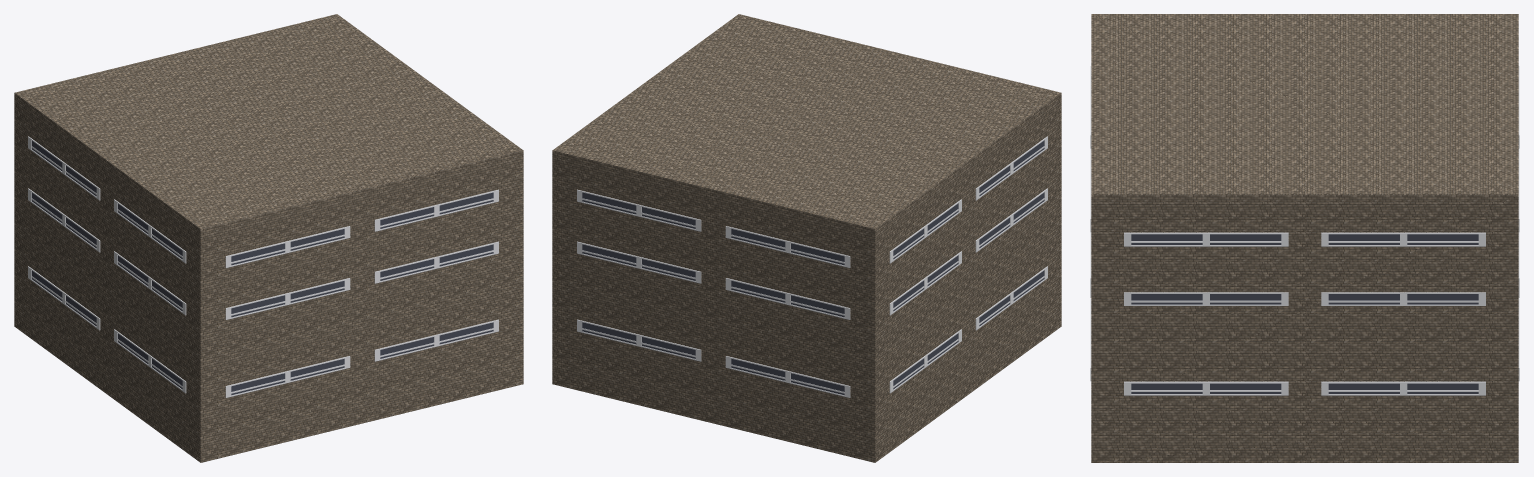
Rendered from GreenBuilding.obj.
3 renders of one model, left to right at view 1: azimuth 30°, elevation 25°; view 2: azimuth 150°, elevation 25°; view 3: azimuth 270°, elevation 25°, orthographic. The views are drawn at different scales.
Bounding box in the file's own units: 13.06 × 9 × 13.06.
Materials: 4 (2 with a texture image).
